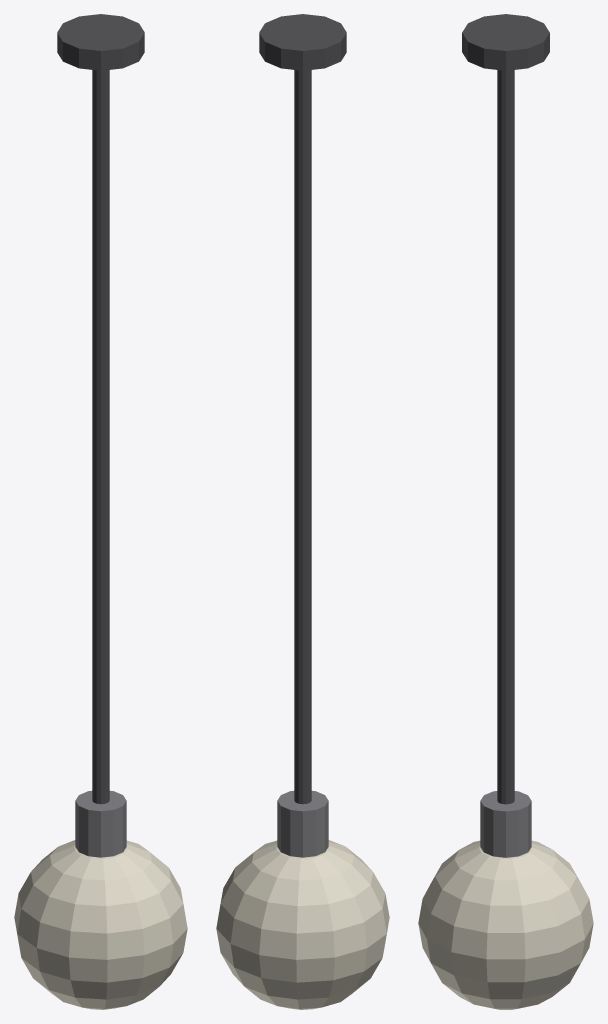
The model's file is ilu_pendente_bola.glb.
3 views of the same model, side by side, from view 1: azimuth 30°, elevation 25°; view 2: azimuth 150°, elevation 25°; view 3: azimuth 270°, elevation 25° (orthographic).
Visible parts, largest first — view 1: ILU_Pendente_Bola_v01; view 2: ILU_Pendente_Bola_v01; view 3: ILU_Pendente_Bola_v01.
Part boxes in pixels (x1,y1,x2,y2): ILU_Pendente_Bola_v01: [14, 14, 187, 1009]; ILU_Pendente_Bola_v01: [216, 14, 389, 1009]; ILU_Pendente_Bola_v01: [418, 14, 593, 1009].
Size of the model in its own units: 0.234 by 1.47 by 0.24.
